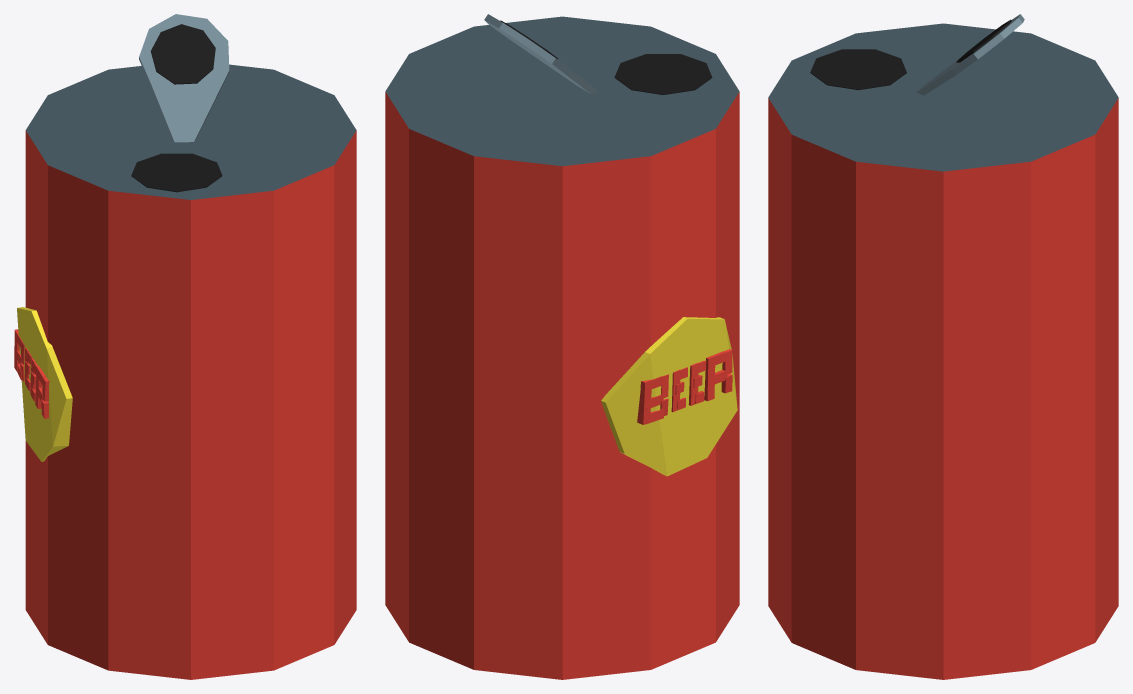
3 views of the same model, side by side, from view 1: azimuth 30°, elevation 25°; view 2: azimuth 150°, elevation 25°; view 3: azimuth 270°, elevation 25° (orthographic). The views are drawn at different scales.
Visible parts, largest first — view 1: mesh_65410139, group_260392903, group_994454051, group_1194642915, group_1375445750; view 2: mesh_65410139, group_994454051, group_1375445750, group_260392903; view 3: mesh_65410139, group_1375445750, group_260392903.
Boxes of the visible parts, x1,y1,x2,y2 form: mesh_65410139: (25,64,356,679); group_260392903: (139,14,229,142); group_994454051: (17,307,72,461); group_1194642915: (150,24,215,84); group_1375445750: (131,153,222,192); mesh_65410139: (385,16,739,679); group_994454051: (601,317,737,476); group_1375445750: (614,54,712,94); group_260392903: (484,14,597,94); mesh_65410139: (768,23,1118,679); group_1375445750: (810,49,906,90); group_260392903: (916,14,1024,95).
Bounding box in the file's own units: 25.85 × 47.11 × 25.
